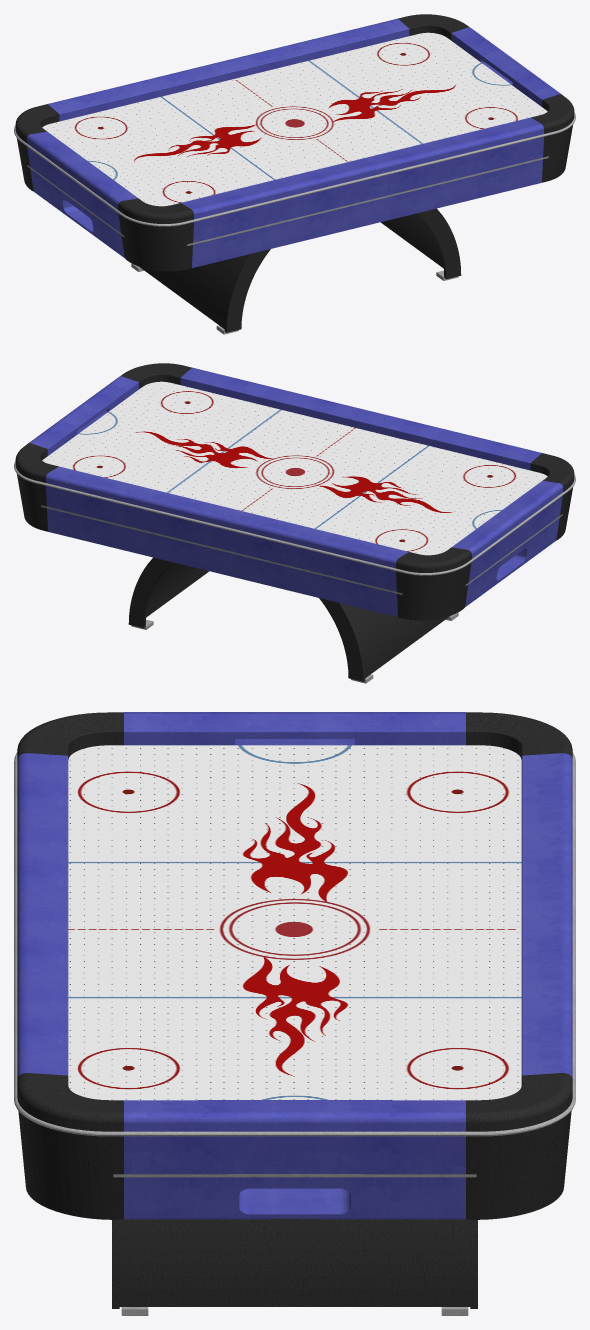
File: AirHockey02.fbx
3 views of the same model, one above another, from view 1: azimuth 30°, elevation 25°; view 2: azimuth 150°, elevation 25°; view 3: azimuth 270°, elevation 25° (orthographic). The views are drawn at different scales.
Visible parts, largest first — view 1: AirHockey01_1; view 2: AirHockey01_1; view 3: AirHockey01_1.
Boxes of the visible parts, x1=… form: AirHockey01_1: x1=14, y1=14, x2=575, y2=334; AirHockey01_1: x1=14, y1=363, x2=575, y2=683; AirHockey01_1: x1=14, y1=712, x2=575, y2=1315.
Bounding box in the file's own units: 258 × 86.96 × 150.
